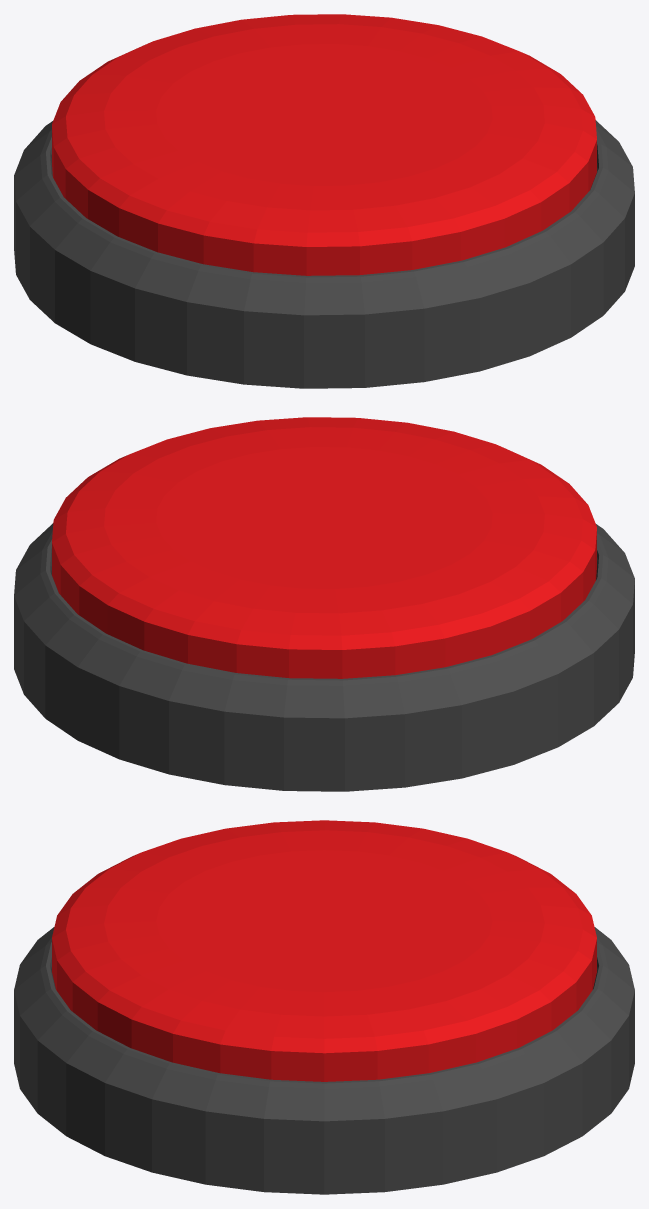
Rendered from button2.fbx.
3 renders of one model, top to bottom at view 1: azimuth 30°, elevation 25°; view 2: azimuth 150°, elevation 25°; view 3: azimuth 270°, elevation 25°, orthographic.
Parts seen in each view (by area): view 1: Cylinder.001, Cylinder; view 2: Cylinder.001, Cylinder; view 3: Cylinder.001, Cylinder.
Part boxes in pixels (x1=…): Cylinder.001: x1=52, y1=14, x2=596, y2=275; Cylinder: x1=14, y1=120, x2=634, y2=388; Cylinder.001: x1=52, y1=417, x2=596, y2=678; Cylinder: x1=14, y1=523, x2=634, y2=791; Cylinder.001: x1=52, y1=820, x2=596, y2=1081; Cylinder: x1=14, y1=927, x2=634, y2=1194.
Size of the model in its own units: 2 by 0.5056 by 2.
